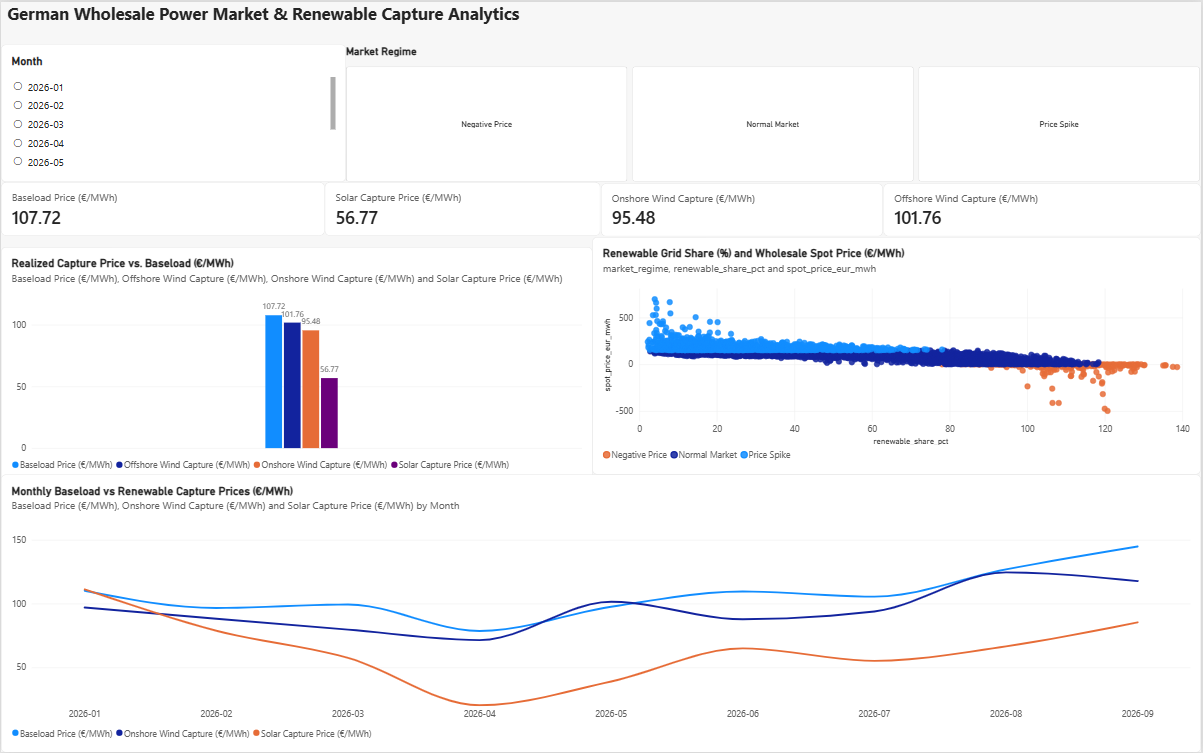

This screenshot's page, from the dashboard's own definition file:
{"tool":"powerbi","page":{"name":"Page 1","canvas":[1920,1200],"ordinal":0},"visuals":[{"type":"textbox","box":[10,0,1910,68.3],"z":0},{"type":"advancedSlicerVisual","fields":{"Values":["master_market_data.market_regime"]},"box":[551.7,68.3,1368.3,220],"z":1000},{"type":"listSlicer","fields":{"Values":["master_market_data.Month"]},"box":[0,68,552,220],"z":2000},{"type":"cardVisual","fields":{"Data":["master_market_data.Baseload Price (€/MWh)"]},"box":[0,288.3,518.3,86.7],"z":3000},{"type":"cardVisual","fields":{"Data":["master_market_data.Onshore Wind Capture (€/MWh)"]},"box":[960,290,451.7,85],"z":4000},{"type":"cardVisual","fields":{"Data":["master_market_data.Offshore Wind Capture (€/MWh)"]},"box":[1411.7,290,508.3,85],"z":5000},{"type":"cardVisual","fields":{"Data":["master_market_data.Solar Capture Price (€/MWh)"]},"box":[518.3,288.3,441.7,86.7],"z":6000},{"type":"clusteredColumnChart","title":"Realized Capture Price vs. Baseload (€/MWh)","fields":{"Y":["master_market_data.Baseload Price (€/MWh)","master_market_data.Offshore Wind Capture (€/MWh)","master_market_data.Onshore Wind Capture (€/MWh)","master_market_data.Solar Capture Price (€/MWh)"]},"box":[0,391.7,946.7,380],"z":7000},{"type":"scatterChart","title":"Renewable Grid Share (%) and  Wholesale Spot Price (€/MWh)","fields":{"Series":["master_market_data.market_regime"],"X":["master_market_data.renewable_share_pct"],"Y":["master_market_data.spot_price_eur_mwh"]},"box":[946.7,375,973.3,380],"z":8000},{"type":"lineChart","title":"Monthly Baseload vs Renewable Capture Prices (€/MWh)","fields":{"Category":["master_market_data.Month"],"Y":["master_market_data.Baseload Price (€/MWh)","master_market_data.Onshore Wind Capture (€/MWh)","master_market_data.Solar Capture Price (€/MWh)"]},"box":[0,755,1920,445],"z":9000}]}

Visuals, with their boxes in screenshot pixels (x1, y1, x2, y2), scaled from the page's 1920x1200 canvas onto the 1203x753 screenshot:
textbox: (6,0,1202,43)
advancedSlicerVisual - master_market_data.market_regime: (346,43,1202,181)
listSlicer - master_market_data.Month: (0,43,346,181)
cardVisual - master_market_data.Baseload Price (€/MWh): (0,181,325,235)
cardVisual - master_market_data.Onshore Wind Capture (€/MWh): (602,182,885,235)
cardVisual - master_market_data.Offshore Wind Capture (€/MWh): (885,182,1202,235)
cardVisual - master_market_data.Solar Capture Price (€/MWh): (325,181,602,235)
"Realized Capture Price vs. Baseload (€/MWh)" clusteredColumnChart: (0,246,593,484)
"Renewable Grid Share (%) and  Wholesale Spot Price (€/MWh)" scatterChart: (593,235,1202,474)
"Monthly Baseload vs Renewable Capture Prices (€/MWh)" lineChart: (0,474,1202,752)
